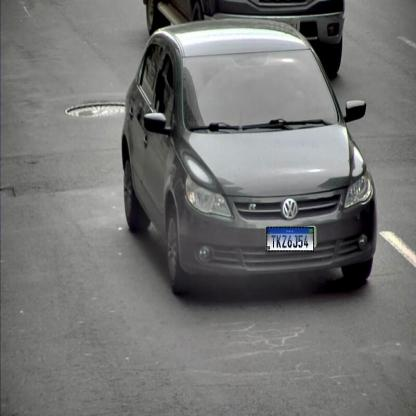PlacaM: (266, 226, 314, 251)
